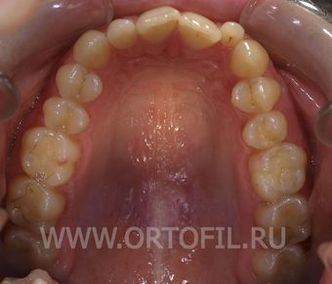UL1BC_healthy: (232, 78, 281, 115)
UL1M_healthy: (250, 143, 308, 195)
UL2BC_healthy: (244, 116, 288, 144)
UL2M_healthy: (260, 197, 311, 227)
ULCI_healthy: (181, 13, 221, 53)
ULC_healthy: (233, 41, 269, 77)
ULLI_healthy: (221, 22, 242, 45)
UR1BC_healthy: (57, 65, 105, 102)
UR1M_healthy: (21, 132, 78, 184)
UR2BC_healthy: (43, 97, 90, 133)
UR2M_healthy: (10, 181, 65, 226)
URCI_healthy: (138, 8, 178, 43)
URC_healthy: (74, 31, 109, 64)
URLI_healthy: (107, 19, 137, 50)
